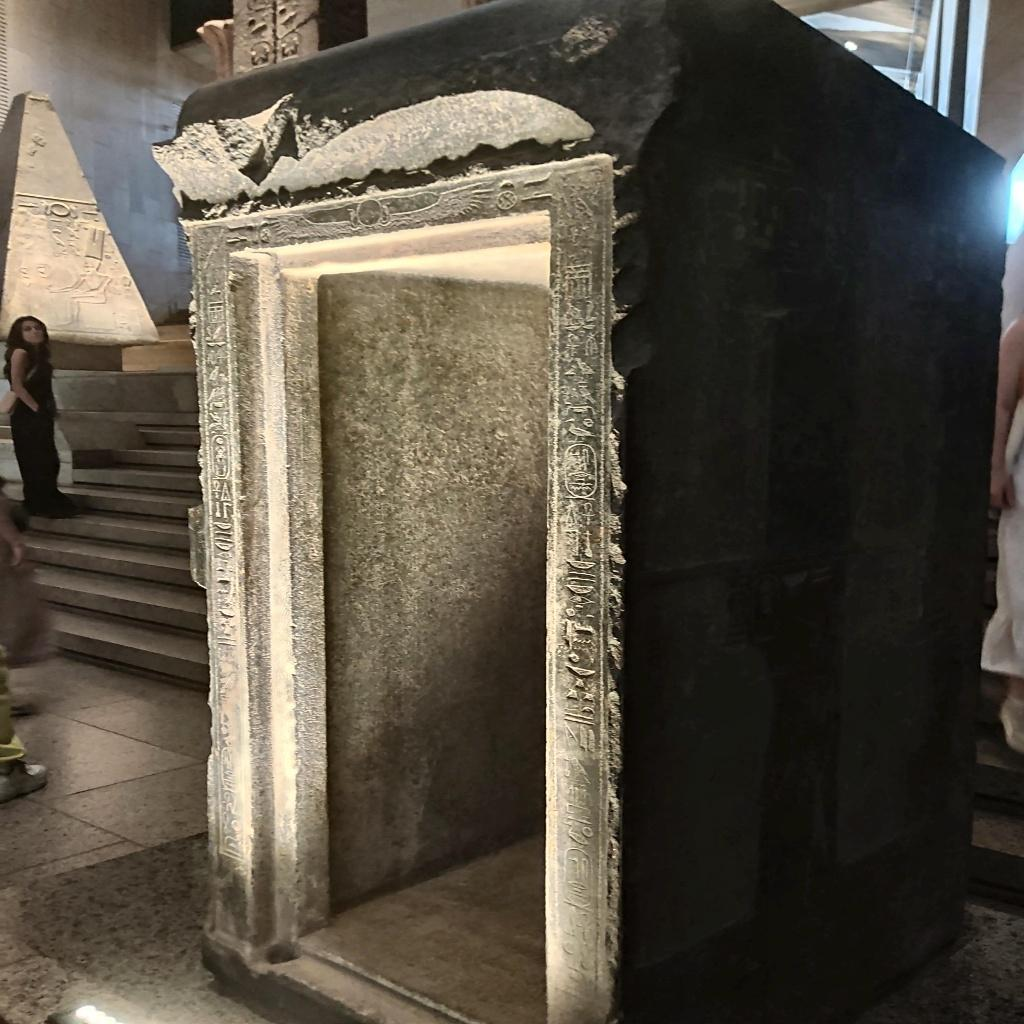Naos of Senwosert I: (178, 0, 970, 1024)
